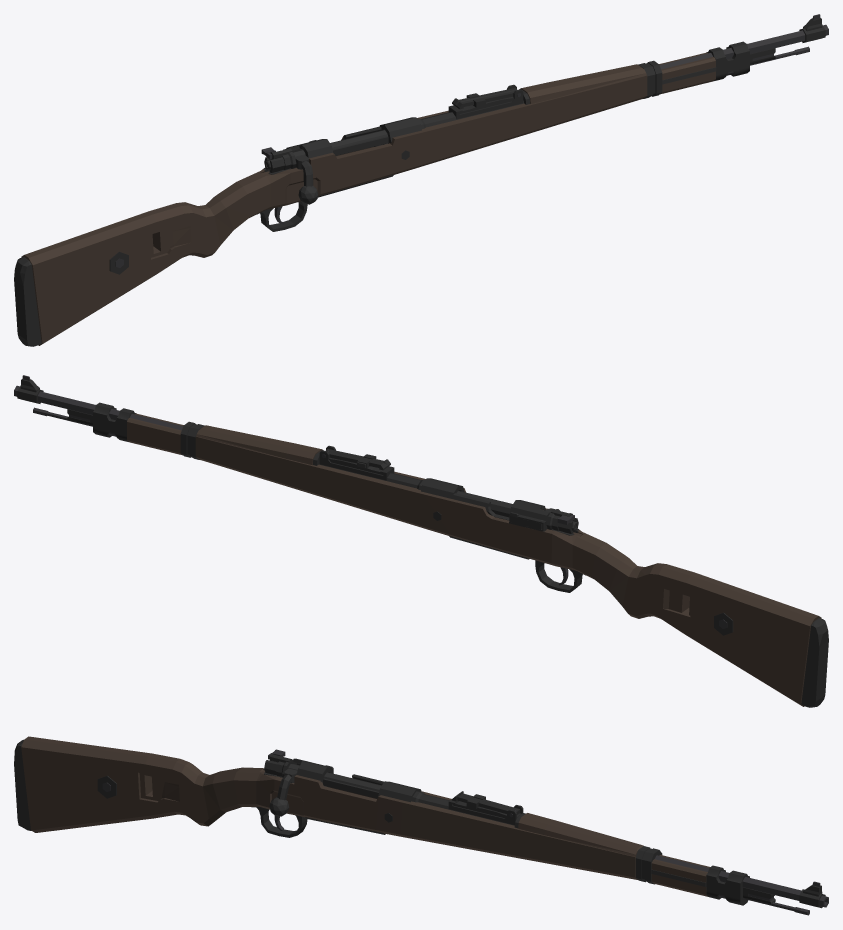
File: kar98.glb
The picture shows the model from 3 angles, top to bottom: view 1: azimuth 30°, elevation 25°; view 2: azimuth 150°, elevation 25°; view 3: azimuth 330°, elevation 25°; orthographic projection.
Parts seen in each view (by area): view 1: Cube_0, Cube.013_0; view 2: Cube_0, Cube.013_0; view 3: Cube_0, Cube.013_0.
Boxes of the visible parts, left/top/right/bottom form: Cube_0: left=14, top=14, right=828, bottom=346; Cube.013_0: left=309, top=88, right=517, bottom=155; Cube_0: left=14, top=375, right=828, bottom=707; Cube.013_0: left=325, top=449, right=542, bottom=529; Cube_0: left=14, top=736, right=828, bottom=915; Cube.013_0: left=323, top=765, right=521, bottom=818.
Size of the model in its own units: 3.28 by 0.5453 by 0.1985.
Materials: 2 (2 with a texture image).
